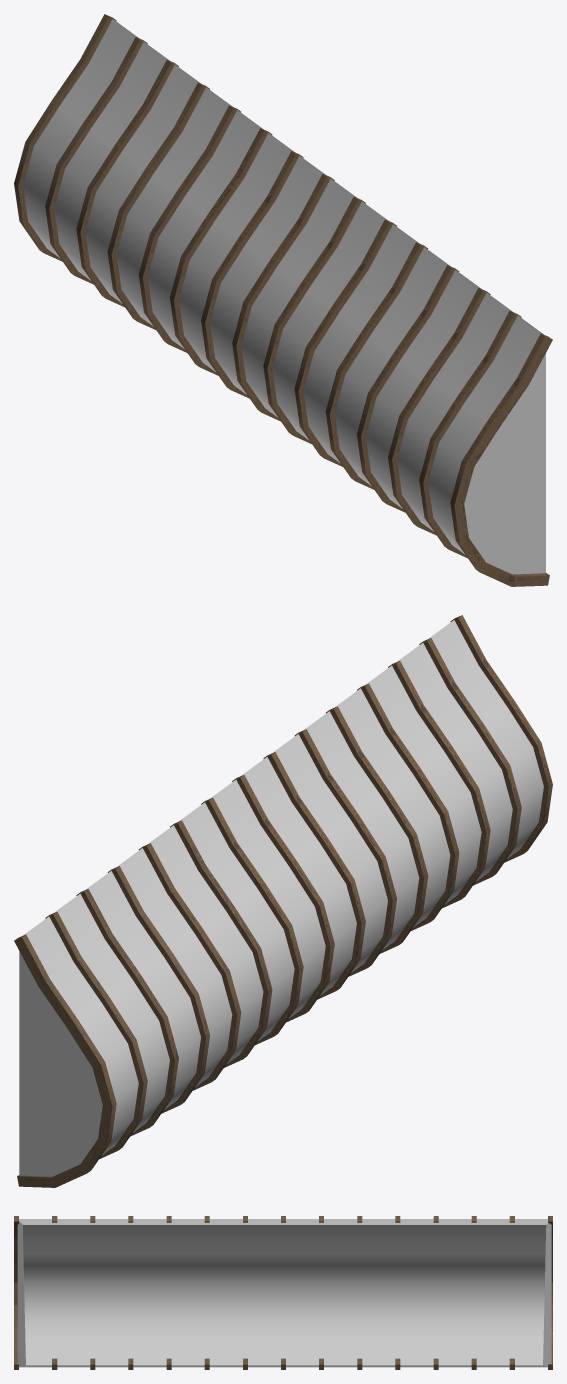
The model's file is SM_Window05A.fbx.
3 views of the same model, one above another, from view 1: azimuth 30°, elevation 25°; view 2: azimuth 150°, elevation 25°; view 3: azimuth 270°, elevation 25° (orthographic). The views are drawn at different scales.
Parts seen in each view (by area): view 1: SM_Window05A; view 2: SM_Window05A; view 3: SM_Window05A.
Boxes of the visible parts, <box> form: SM_Window05A: <box>14,14,552,586</box>; SM_Window05A: <box>14,615,552,1187</box>; SM_Window05A: <box>14,1216,552,1369</box>.
Size of the model in its own units: 25.31 by 196 by 61.3.
2 materials, 1 textured.
